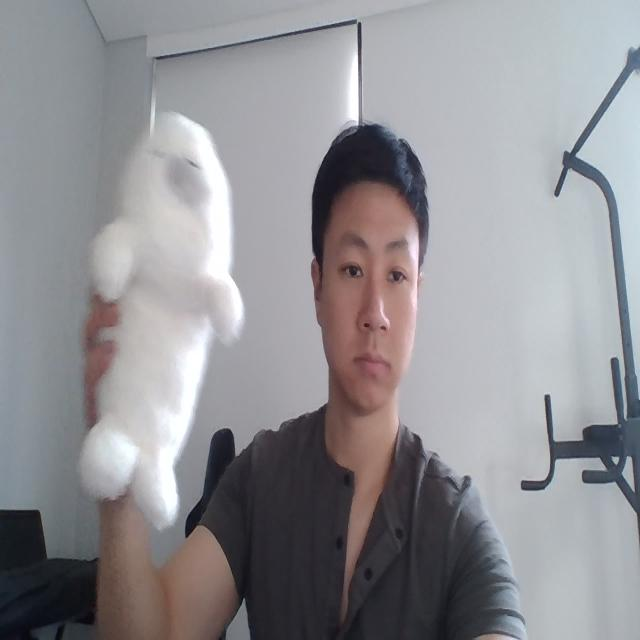seal_bb: (78, 108, 245, 534)
